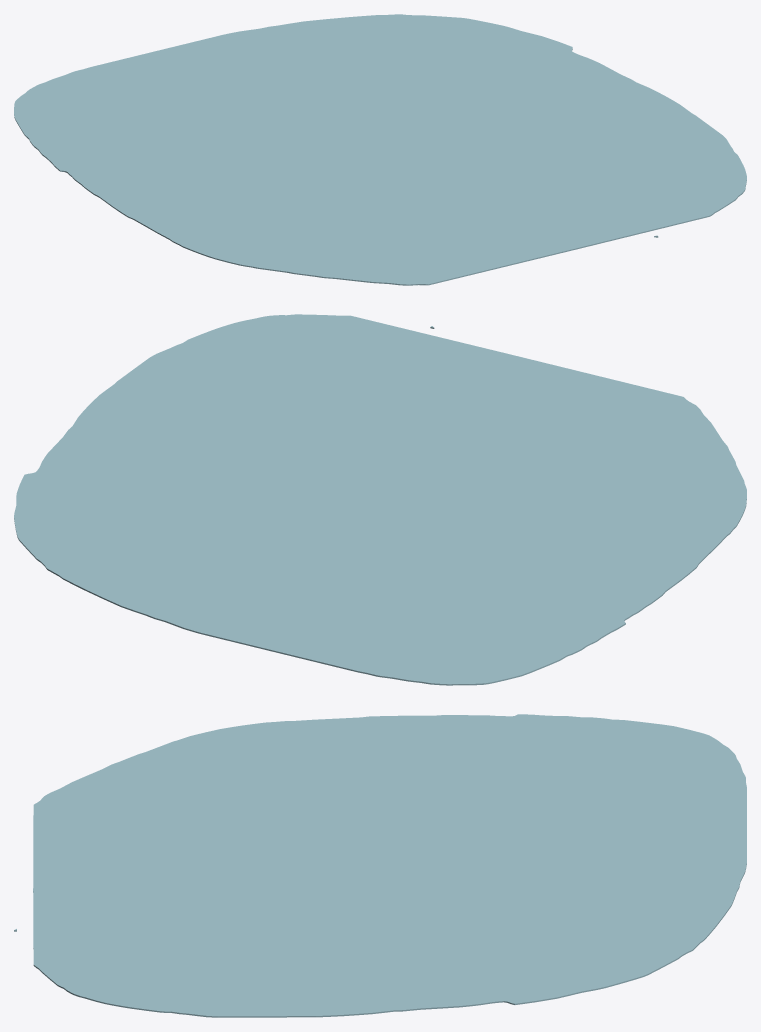
Rendered from water.glb.
The picture shows the model from 3 angles, top to bottom: view 1: azimuth 30°, elevation 25°; view 2: azimuth 150°, elevation 25°; view 3: azimuth 270°, elevation 25°; orthographic projection. The views are drawn at different scales.
Visible parts, largest first — view 1: Mesh_Mesh_head_geo.001_lambert2SG.001; view 2: Mesh_Mesh_head_geo.001_lambert2SG.001; view 3: Mesh_Mesh_head_geo.001_lambert2SG.001.
Boxes of the visible parts, <box> form: Mesh_Mesh_head_geo.001_lambert2SG.001: <box>14,14,746,285</box>; Mesh_Mesh_head_geo.001_lambert2SG.001: <box>14,314,746,685</box>; Mesh_Mesh_head_geo.001_lambert2SG.001: <box>14,714,746,1017</box>.
Size of the model in its own units: 192 by 0.4 by 196.
